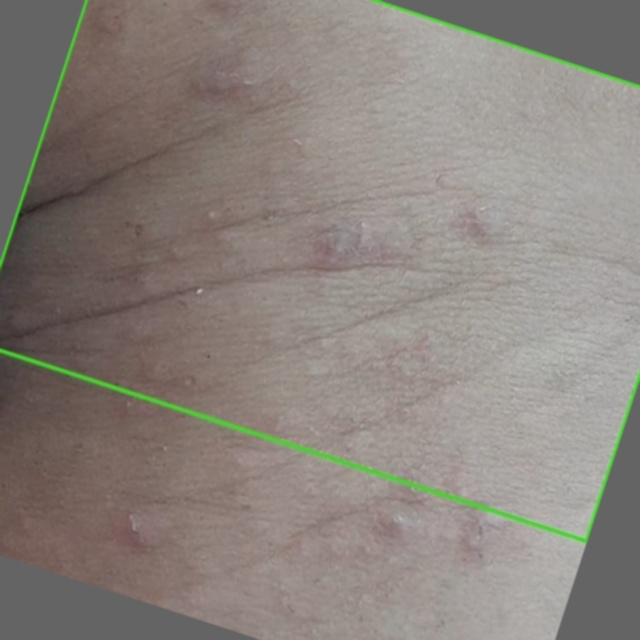Scabies: (0, 0, 639, 541)
